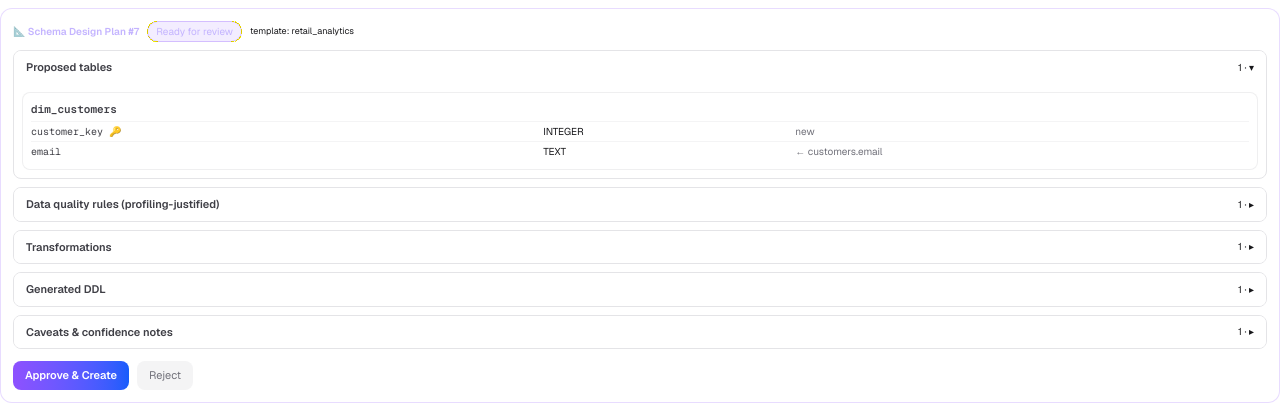
it: SchemaDesignPlanCard › reject posts to the reject endpoint
Click the button "Reject" at (165, 375), box [137,361,193,390]
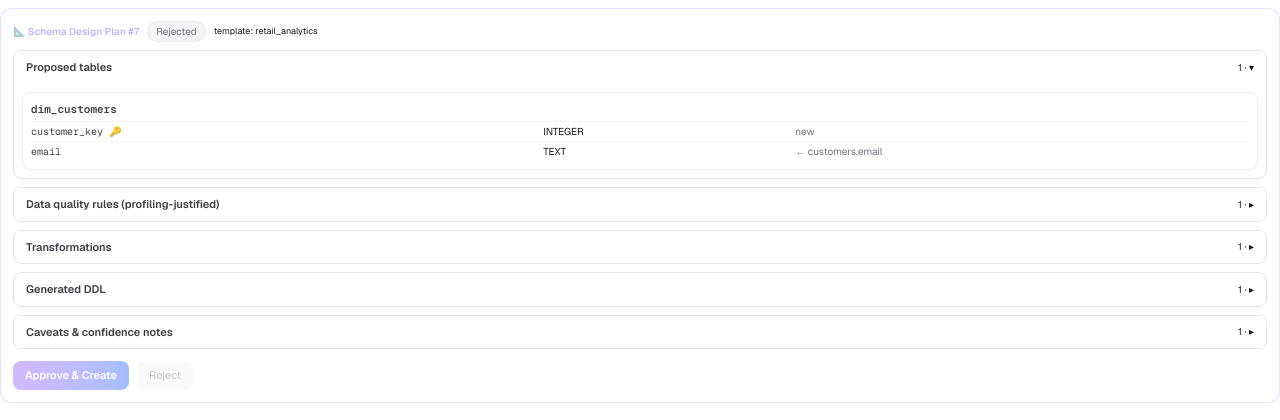
Result: the text "Rejected" is shown at [147,21,206,42]
